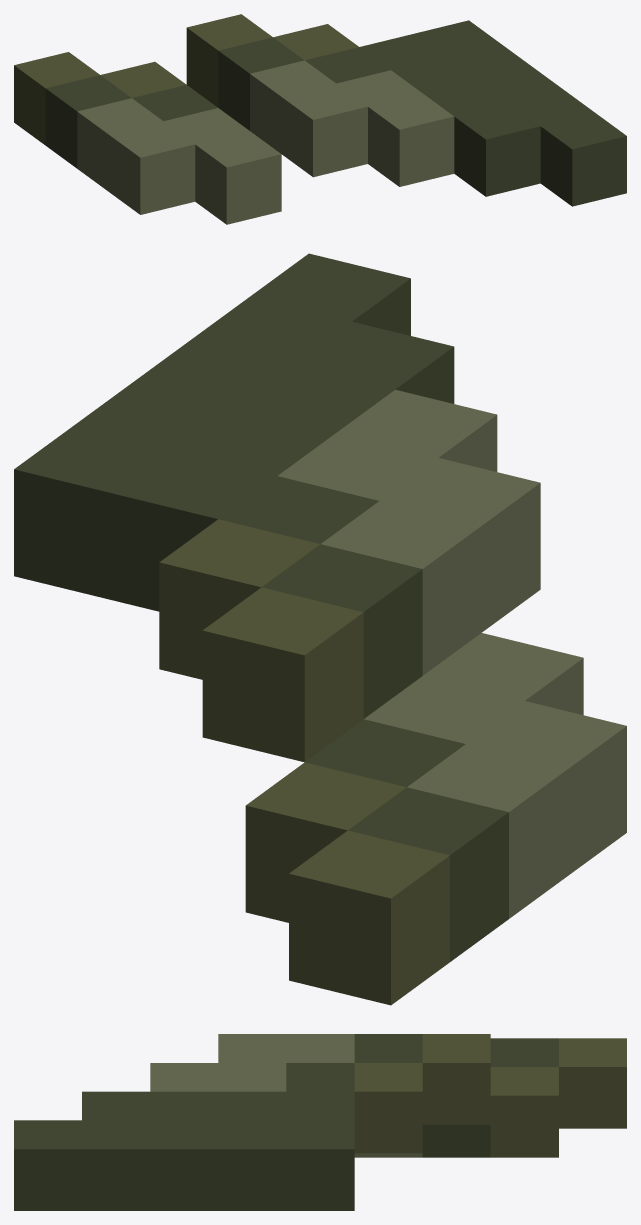
File: Wing-23-CamoJet_Winglet_R.obj
The picture shows the model from 3 angles, top to bottom: view 1: azimuth 30°, elevation 25°; view 2: azimuth 150°, elevation 25°; view 3: azimuth 270°, elevation 25°; orthographic projection. The views are drawn at different scales.
Visible parts, largest first — view 1: CamoJet_Winglet_R; view 2: CamoJet_Winglet_R; view 3: CamoJet_Winglet_R.
Boxes of the visible parts, x1=… form: CamoJet_Winglet_R: x1=14, y1=14, x2=626, y2=224; CamoJet_Winglet_R: x1=14, y1=253, x2=626, y2=1005; CamoJet_Winglet_R: x1=14, y1=1034, x2=626, y2=1210.
Bounding box in the file's own units: 0.6 × 0.2 × 0.9.
